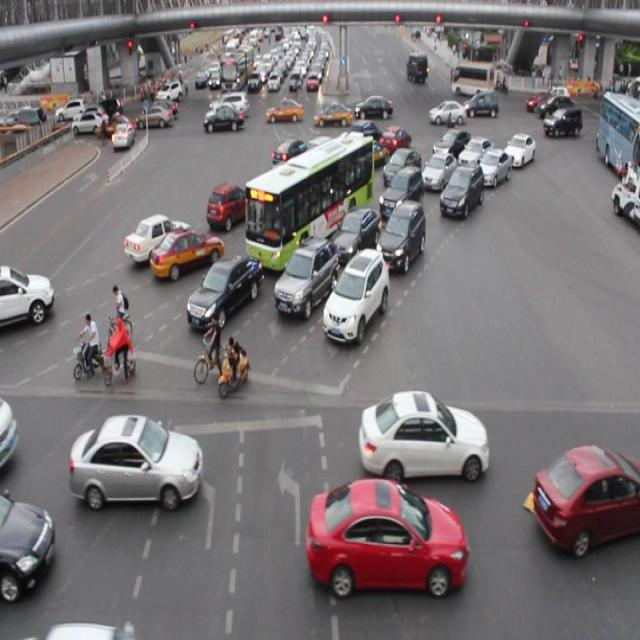car: (306, 478, 465, 592), (70, 414, 200, 504), (358, 391, 486, 480), (534, 443, 640, 545), (322, 247, 387, 342), (1, 491, 52, 594), (187, 256, 261, 326), (273, 240, 336, 316), (378, 198, 426, 270), (150, 230, 223, 274), (124, 213, 191, 260), (1, 264, 52, 324), (328, 206, 381, 260), (206, 182, 255, 230), (440, 162, 483, 215), (378, 168, 423, 216), (316, 152, 363, 193), (281, 178, 326, 217), (381, 147, 420, 191), (265, 161, 307, 196), (432, 127, 472, 162), (271, 138, 310, 173), (348, 136, 387, 169), (346, 118, 381, 153), (476, 148, 508, 186), (422, 152, 454, 190), (458, 137, 492, 172), (502, 133, 534, 169), (378, 124, 410, 158)
truck: (302, 137, 338, 171)
van: (245, 136, 373, 273)
